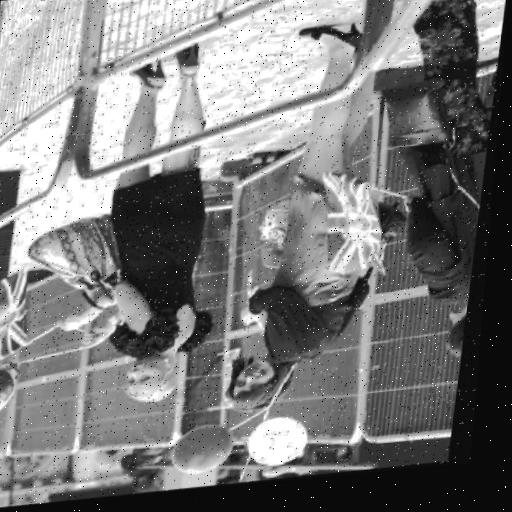balloon: (168, 418, 242, 483), (248, 409, 316, 473), (0, 348, 31, 431)
